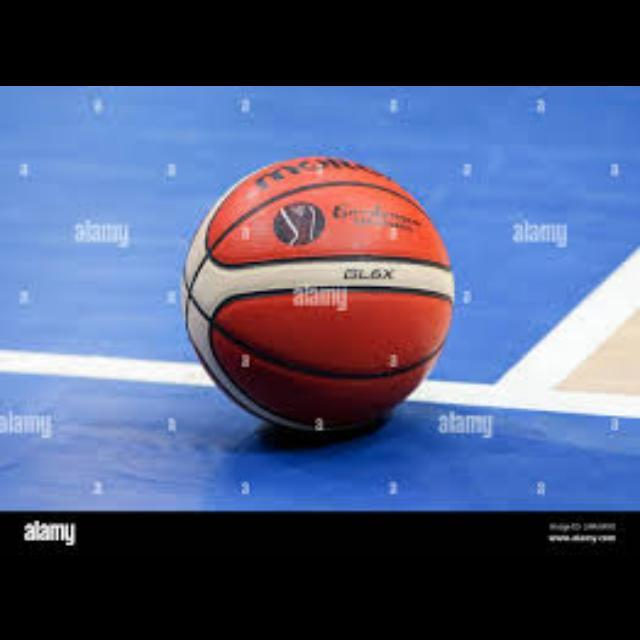basketball: (184, 156, 452, 432)
